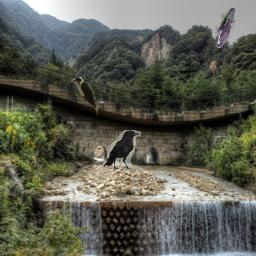Crow: (103, 130, 141, 170)
Cuckoo: (71, 77, 98, 115), (215, 8, 235, 48)
